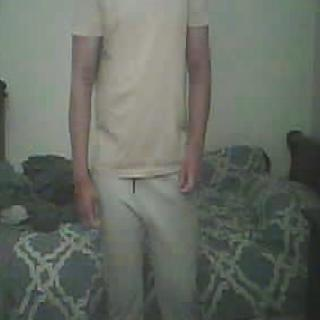White Sweatpants: (97, 167, 204, 320)
Yellow T-Shirt: (71, 0, 207, 174)
